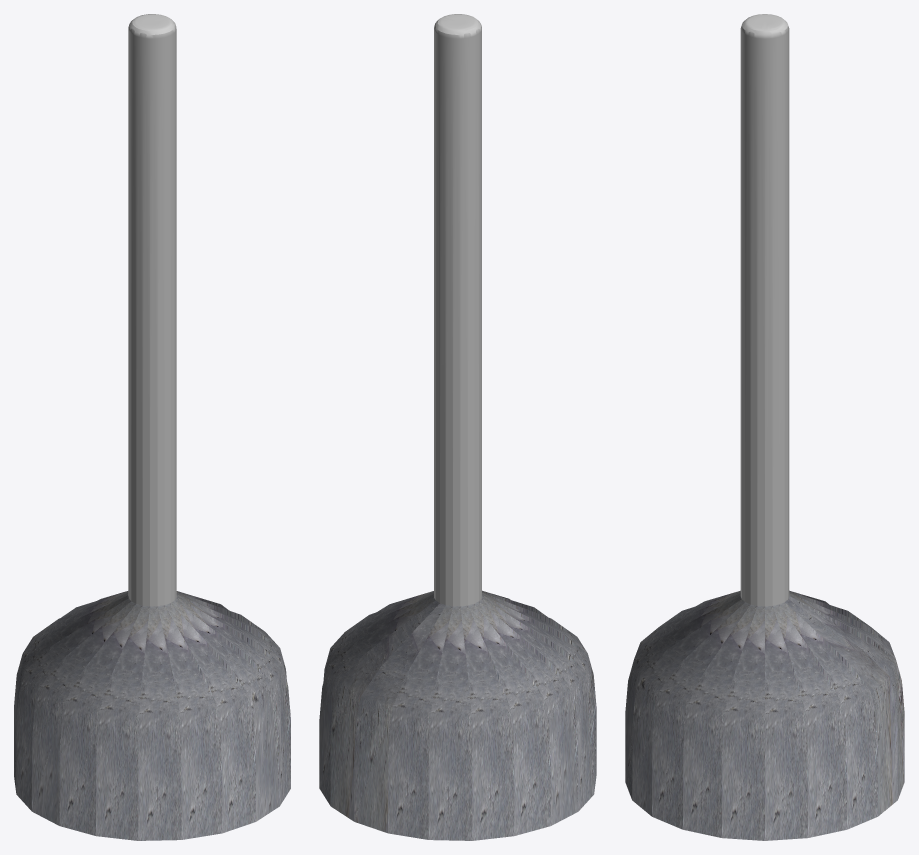
File: plunger.fbx
3 renders of one model, left to right at view 1: azimuth 30°, elevation 25°; view 2: azimuth 150°, elevation 25°; view 3: azimuth 270°, elevation 25°, orthographic.
Parts seen in each view (by area): view 1: Plunger; view 2: Plunger; view 3: Plunger.
Part boxes in pixels (<box>): Plunger: <box>14,14,290,840</box>; Plunger: <box>319,14,596,840</box>; Plunger: <box>625,14,904,840</box>.
Bounding box in the file's own units: 0.4026 × 1.21 × 0.4044.
